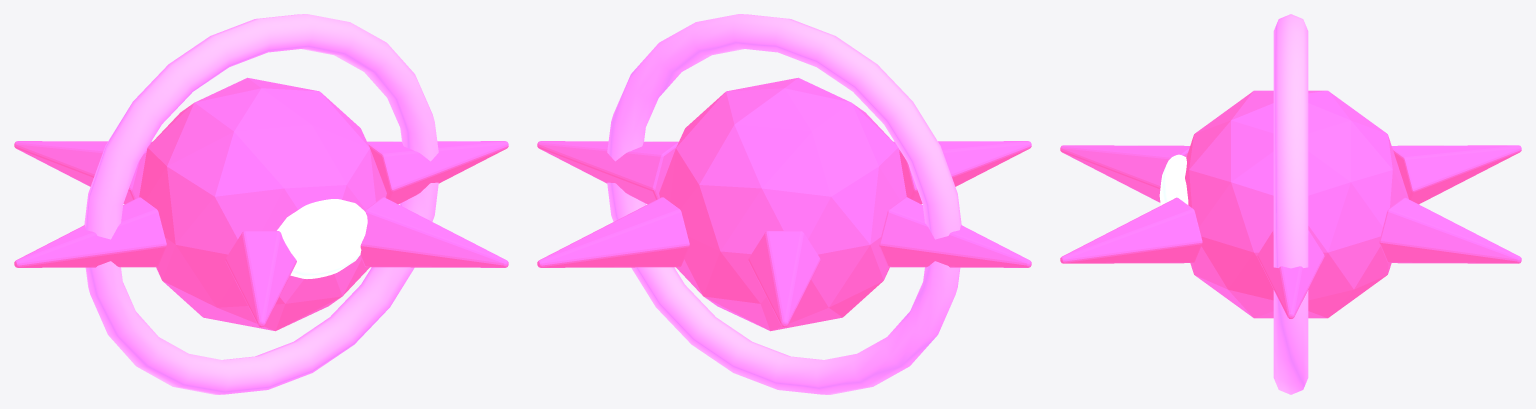
File: energy_sentinel.glb
The picture shows the model from 3 angles, left to right: view 1: azimuth 30°, elevation 25°; view 2: azimuth 150°, elevation 25°; view 3: azimuth 270°, elevation 25°; orthographic projection. The views are drawn at different scales.
Visible parts, largest first — view 1: energy_sentinel_MobileMesh; view 2: energy_sentinel_MobileMesh; view 3: energy_sentinel_MobileMesh.
Boxes of the visible parts, left/top/right/bottom form: energy_sentinel_MobileMesh: left=14, top=14, right=508, bottom=394; energy_sentinel_MobileMesh: left=537, top=14, right=1031, bottom=394; energy_sentinel_MobileMesh: left=1060, top=14, right=1521, bottom=394.
Bounding box in the file's own units: 2.75 × 1.98 × 2.39.
